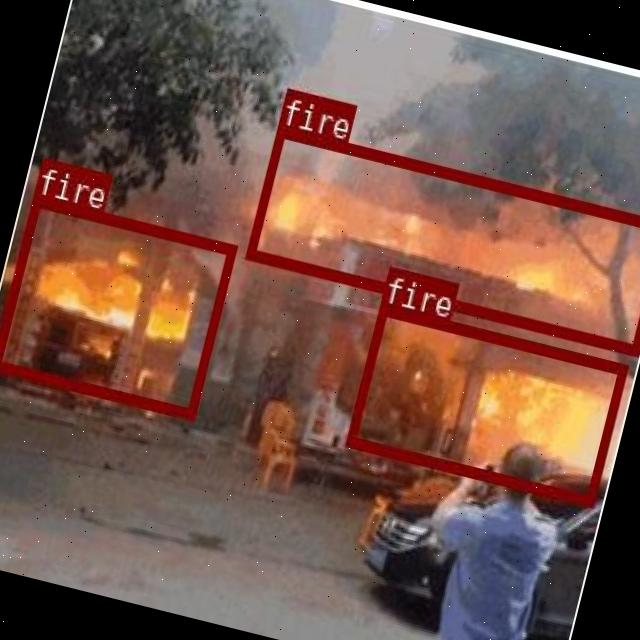fire: (244, 124, 640, 354), (344, 302, 626, 505), (0, 193, 234, 416)
